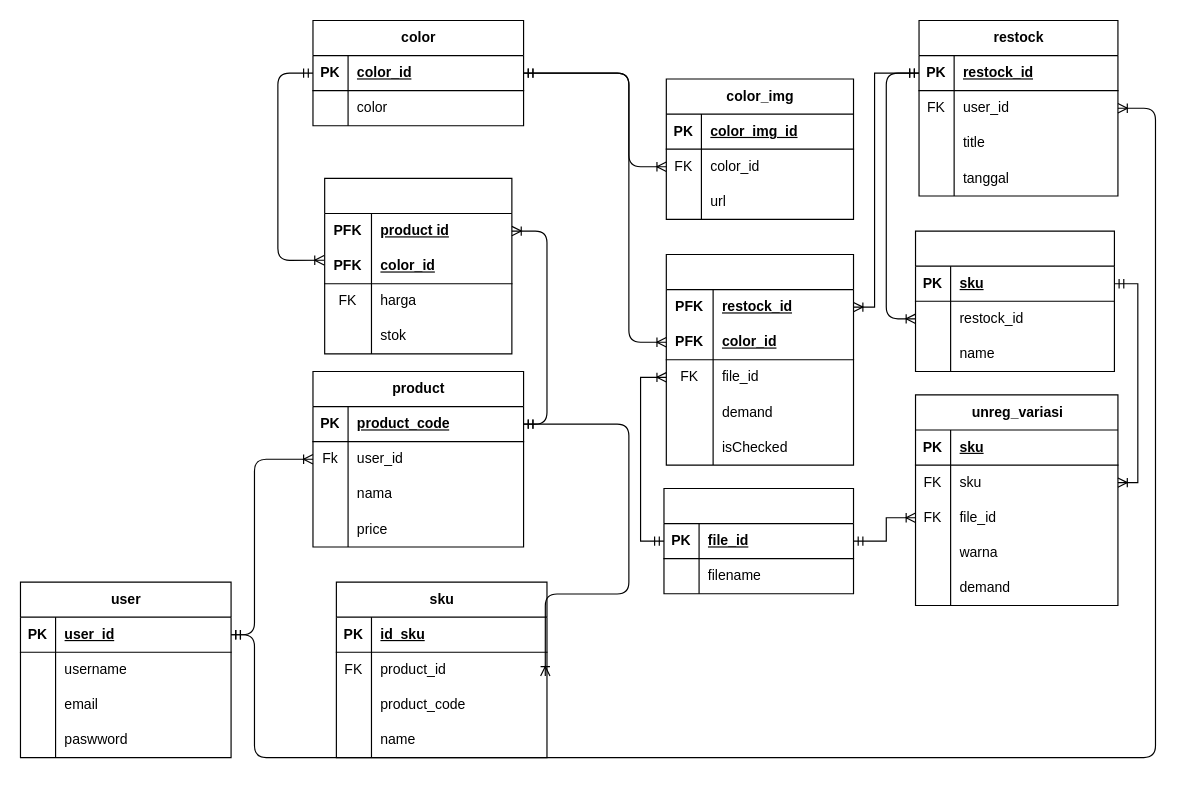
This 1188x789 diagram has some shape labels left out. Here are the shapes that lost their labels. From the top down, the box of each, then its label:
(324, 177, 512, 354): product_color
(914, 230, 1114, 371): unreg_product
(665, 253, 854, 465): restock_item
(663, 487, 854, 594): excel_file
